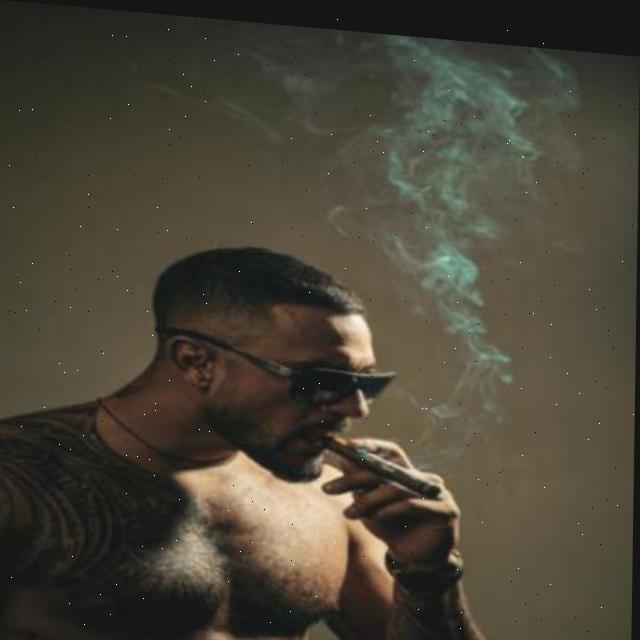cigarette: (327, 425, 451, 496)
